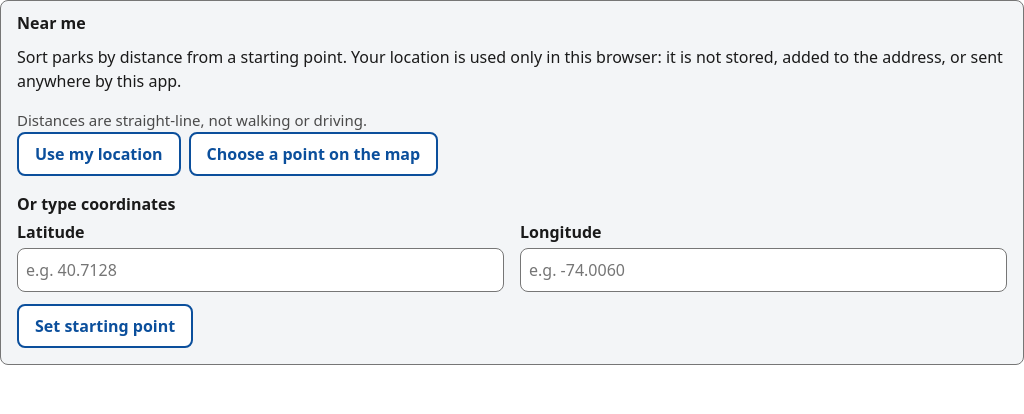
it: NearMePanel: typed coordinates › rejects empty with a message and does not set a point
Click the button "Set starting point" at (105, 326), box [17, 304, 193, 348]
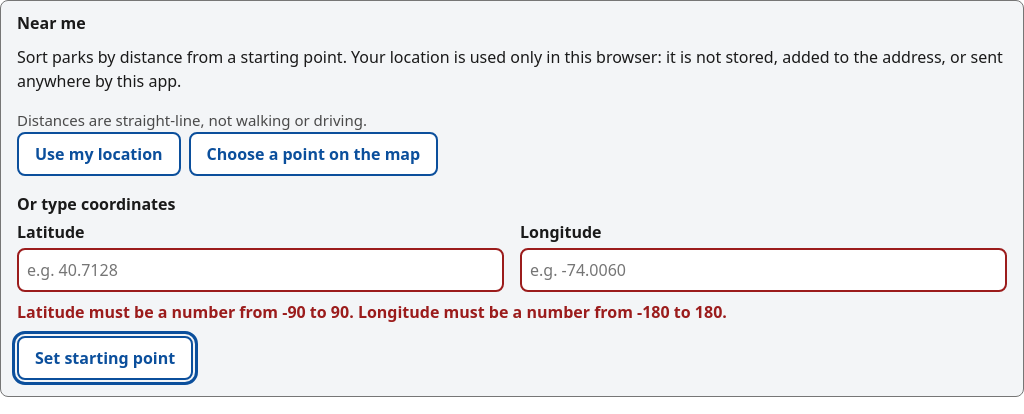
Result: the message shows "Latitude must be a number" at [17, 300, 727, 322]
